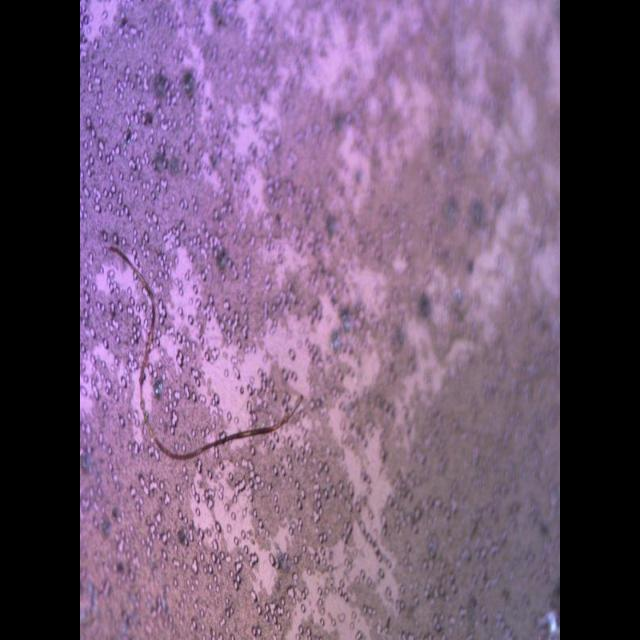Fibre: (108, 241, 304, 461)
